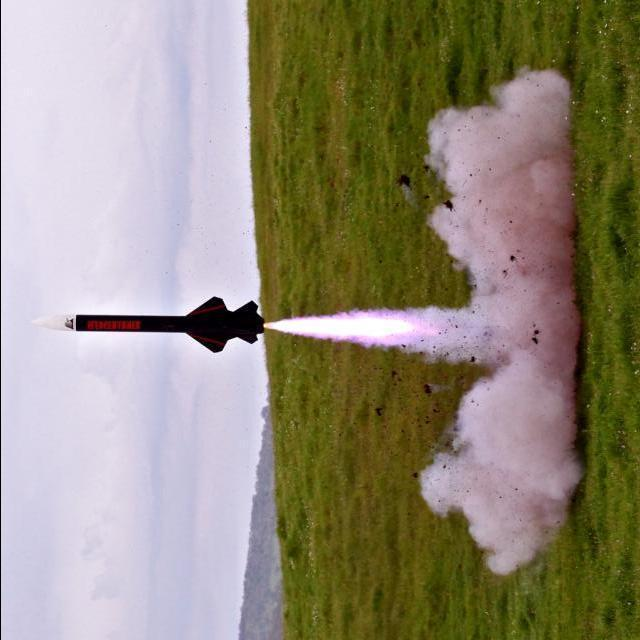missile: (32, 294, 266, 355)
